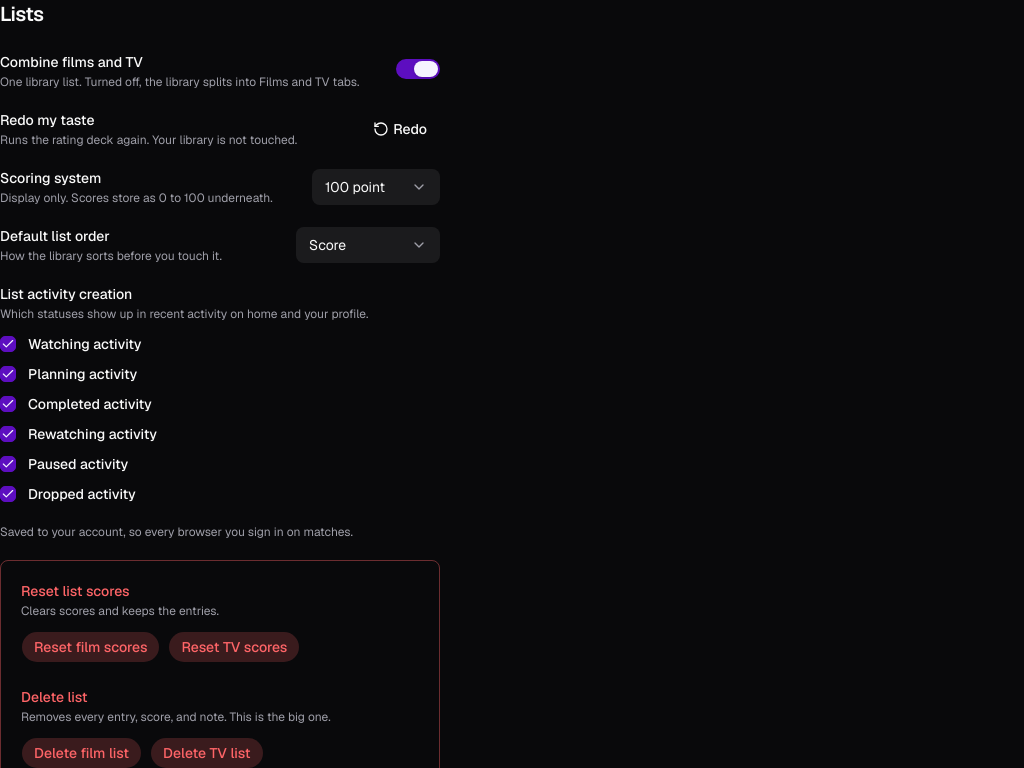
Scenario: ListsSection › counts seasons in the singular, and has nothing to delete in an empty list
The width and height of the screenshot is (1024, 768).
Click the button "Delete TV list". click: x=207, y=753
box: [150,737,264,767]
(page scrolled)
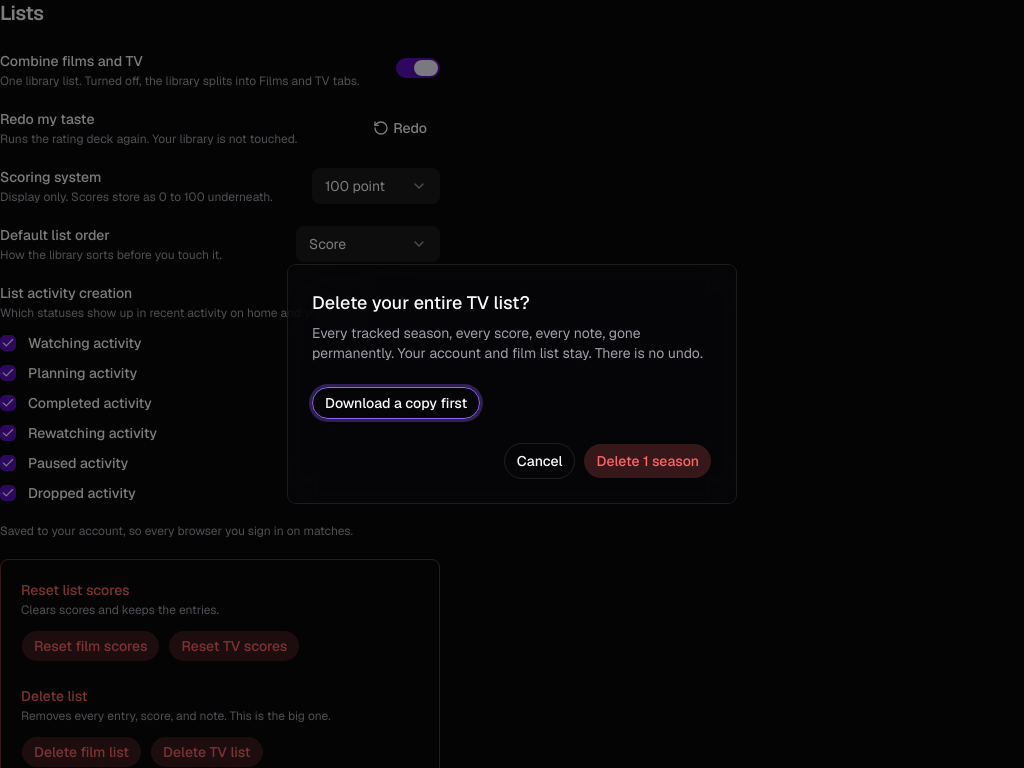
expect the button "Delete 1 season" is enabled: met, box [583,443,712,479]
Click the button "Cancel". click: x=540, y=461
box: [504,443,576,479]
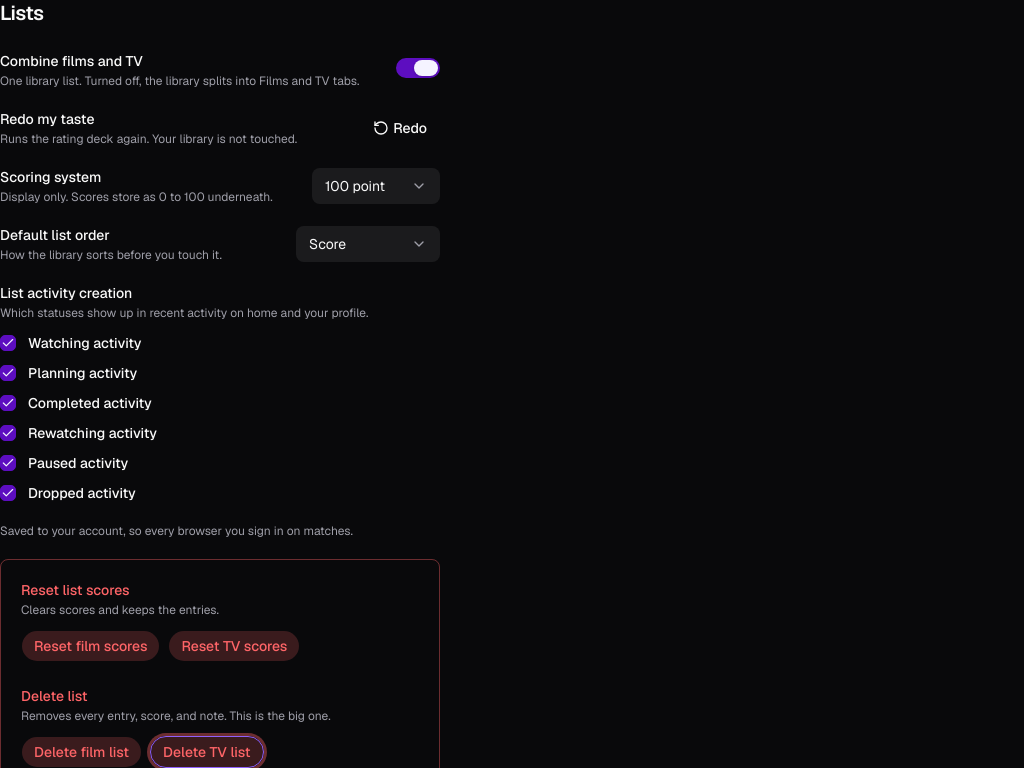
Click the button "Delete film list". click: x=82, y=752
box: [21,736,142,767]
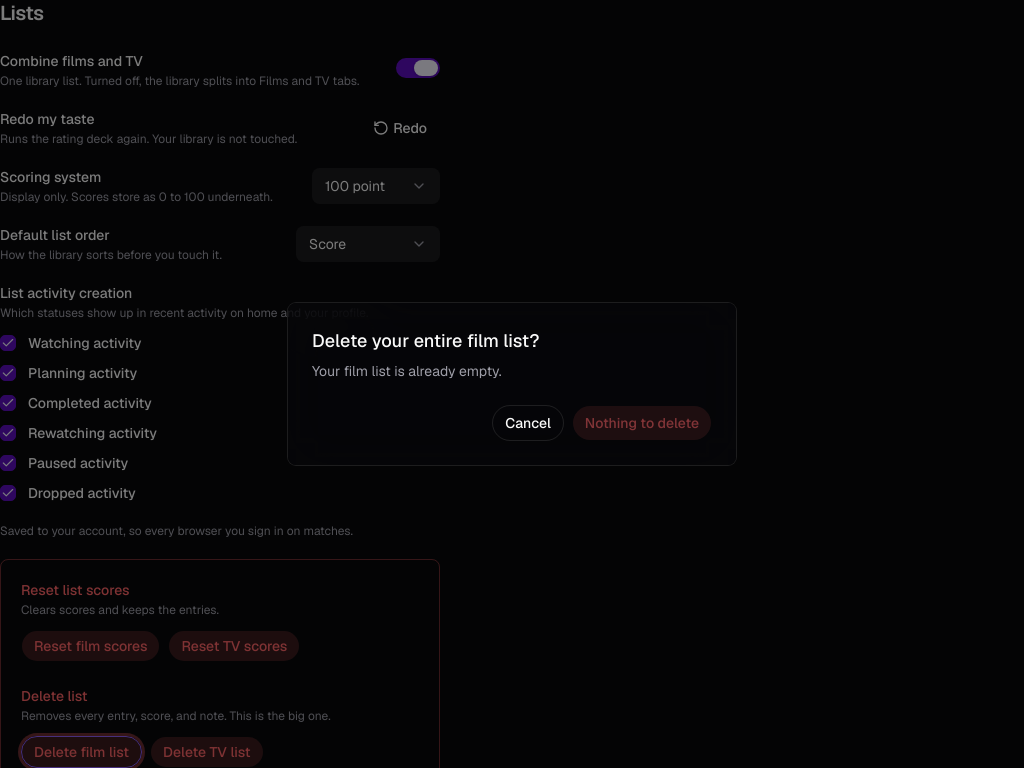
expect the text "Your film list is already empty." is shown: met, box [312,361,502,381]
expect the button "Nothing to delete" is disabled: met, box [572,405,712,441]
